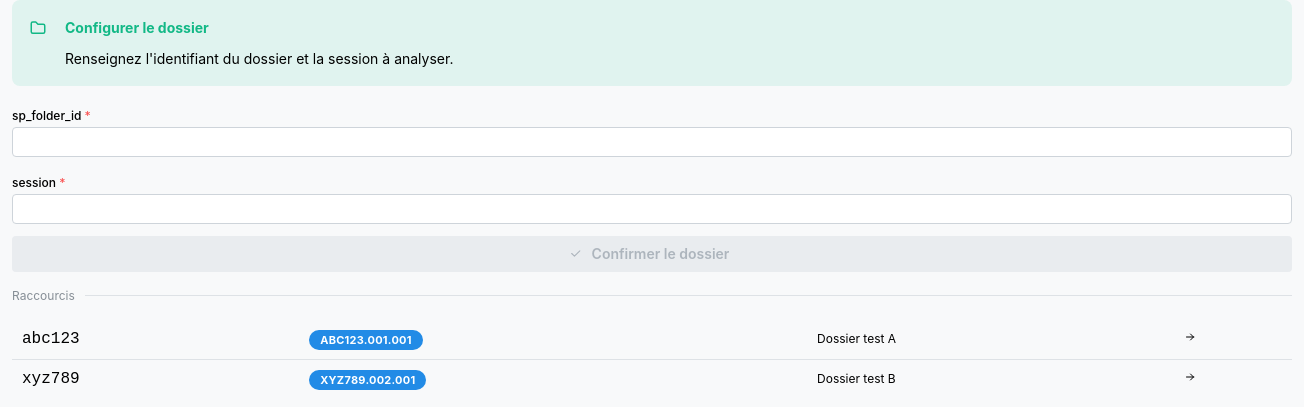
Test: FolderPicker — shortcuts › clicking a shortcut fills the input fields
The image size is (1304, 407).
Click the row with test id "shortcut-abc123-abc123.001.001" at coordinates (652, 340), box [12,320,1292,360]
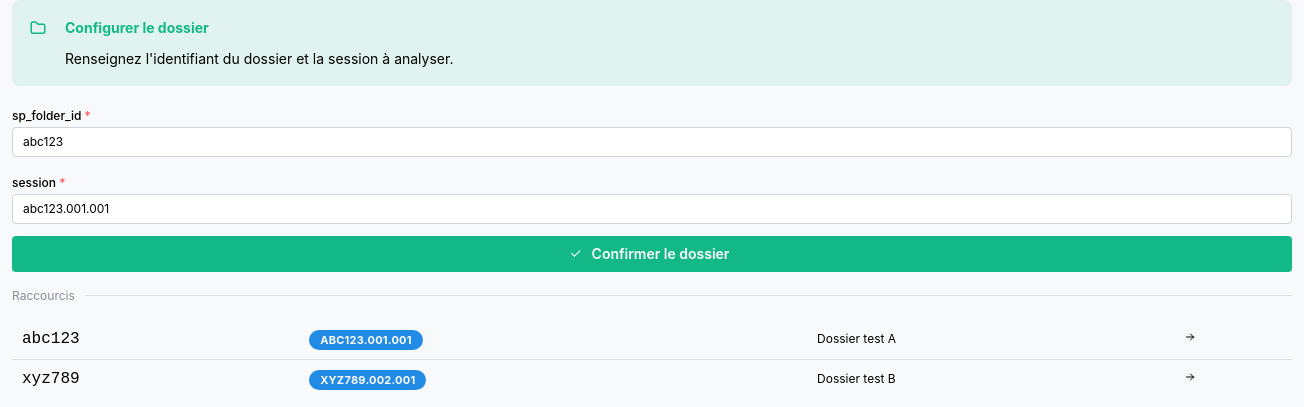
Check: the field with test id "input-folder-id" holds "abc123", box [12,127,1292,157]
Check: the field with test id "input-session-id" holds "abc123.001.001", box [12,194,1292,224]
